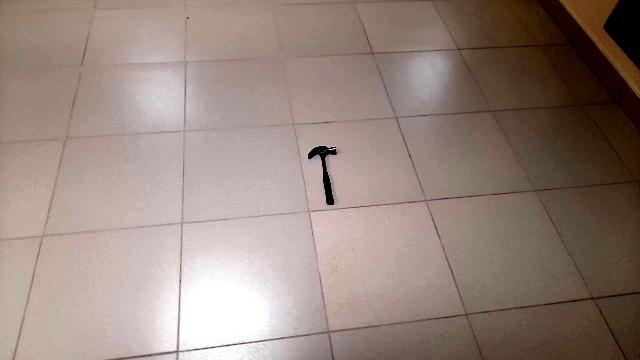hammer: (298, 139, 350, 213)
